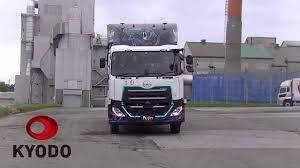truck: (107, 23, 186, 138), (273, 78, 300, 109)
